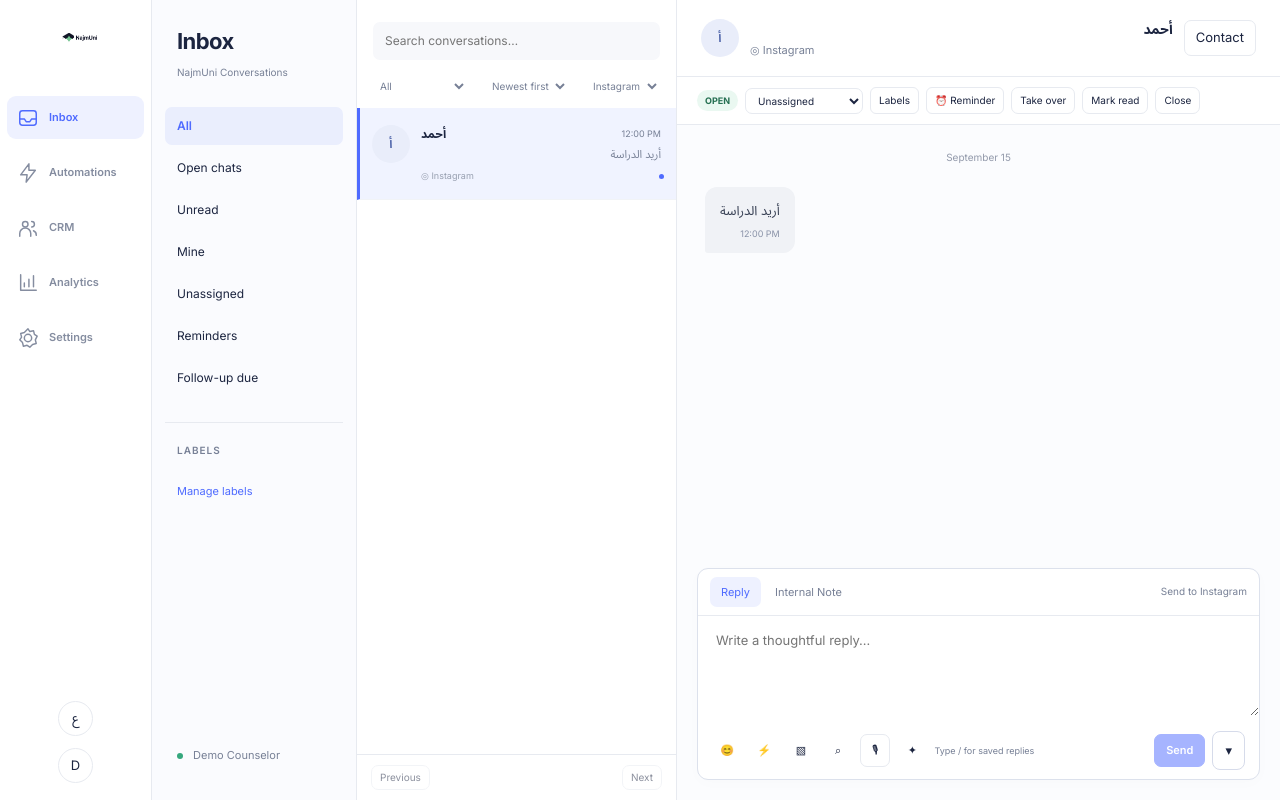
Test: CRM workflows › preserves a reply after a network failure
This screenshot has width=1280, height=800.
Type "A reply that must not be lost" into the text box named "Reply message". click: (978, 666)
box: [698, 616, 1259, 716]
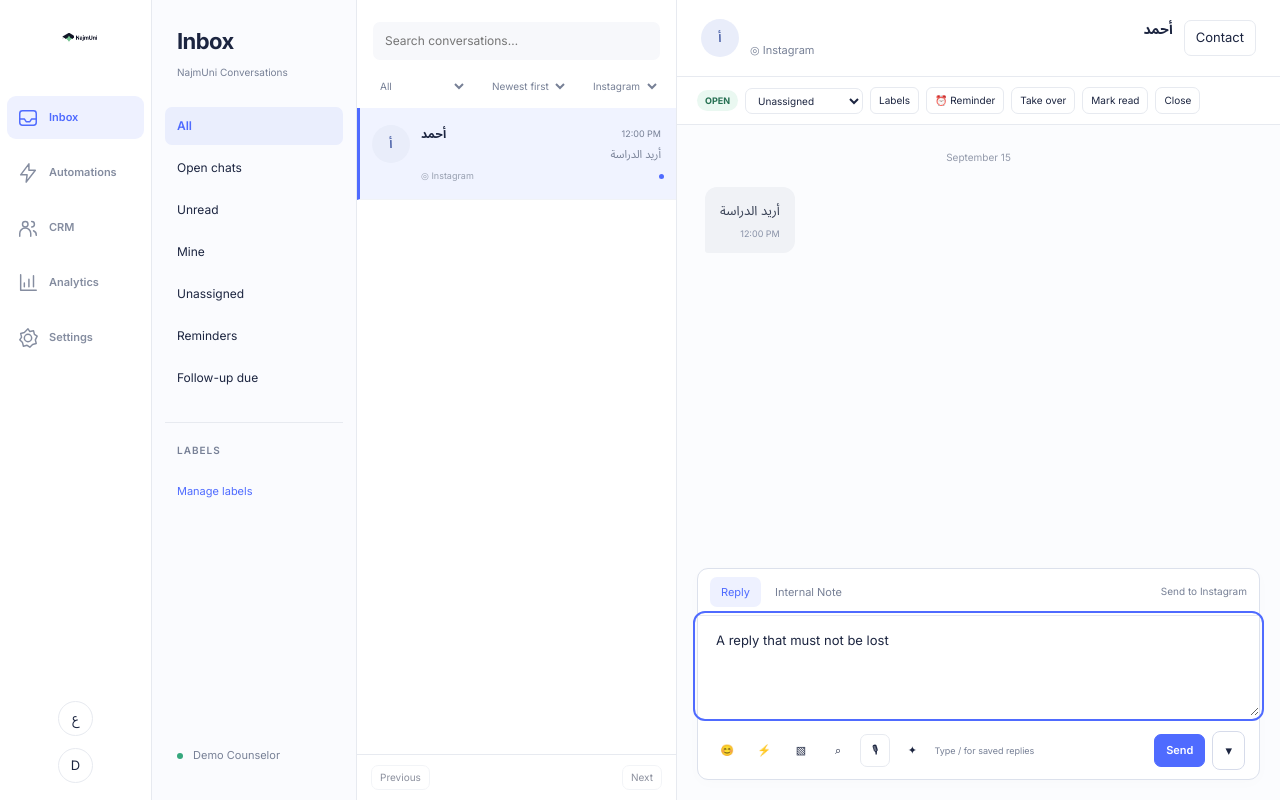
Click the button "Send". click: (1180, 750)
box: [1154, 734, 1206, 766]
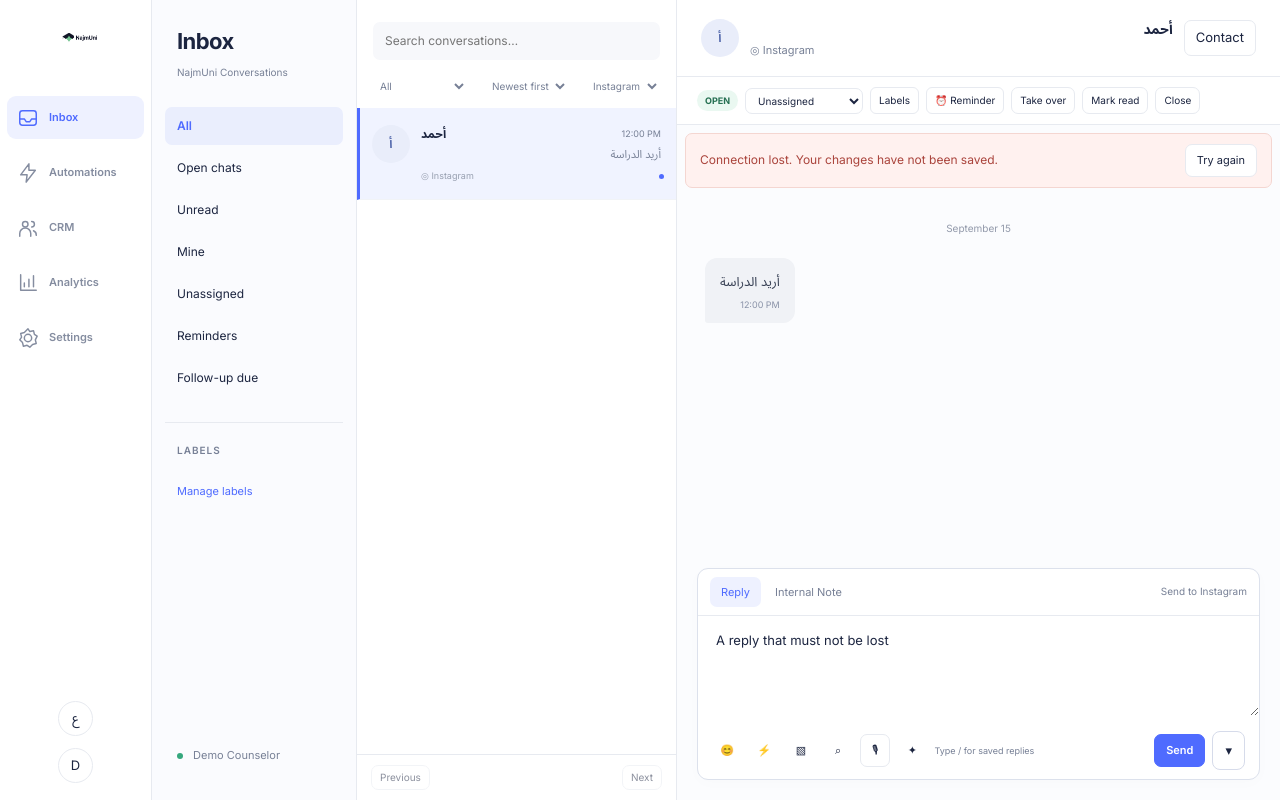
Expected: the message "Connection lost. Your changes have not been saved. Try again" is shown, [685, 133, 1272, 188]
